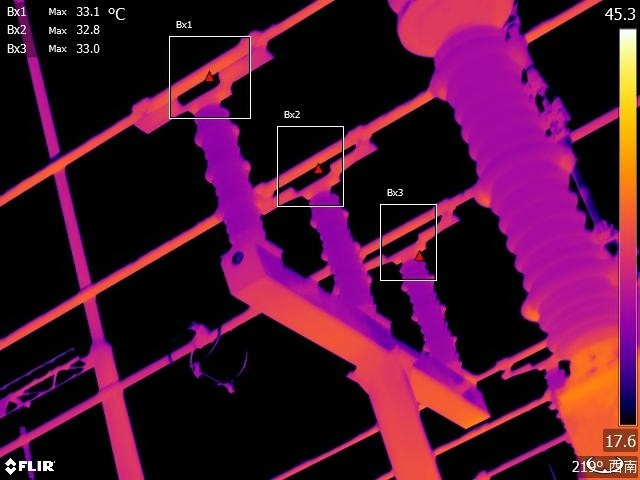circuit breaker: (357, 1, 640, 480)
post insulator: (188, 97, 267, 239), (312, 195, 380, 309), (397, 258, 465, 361)
